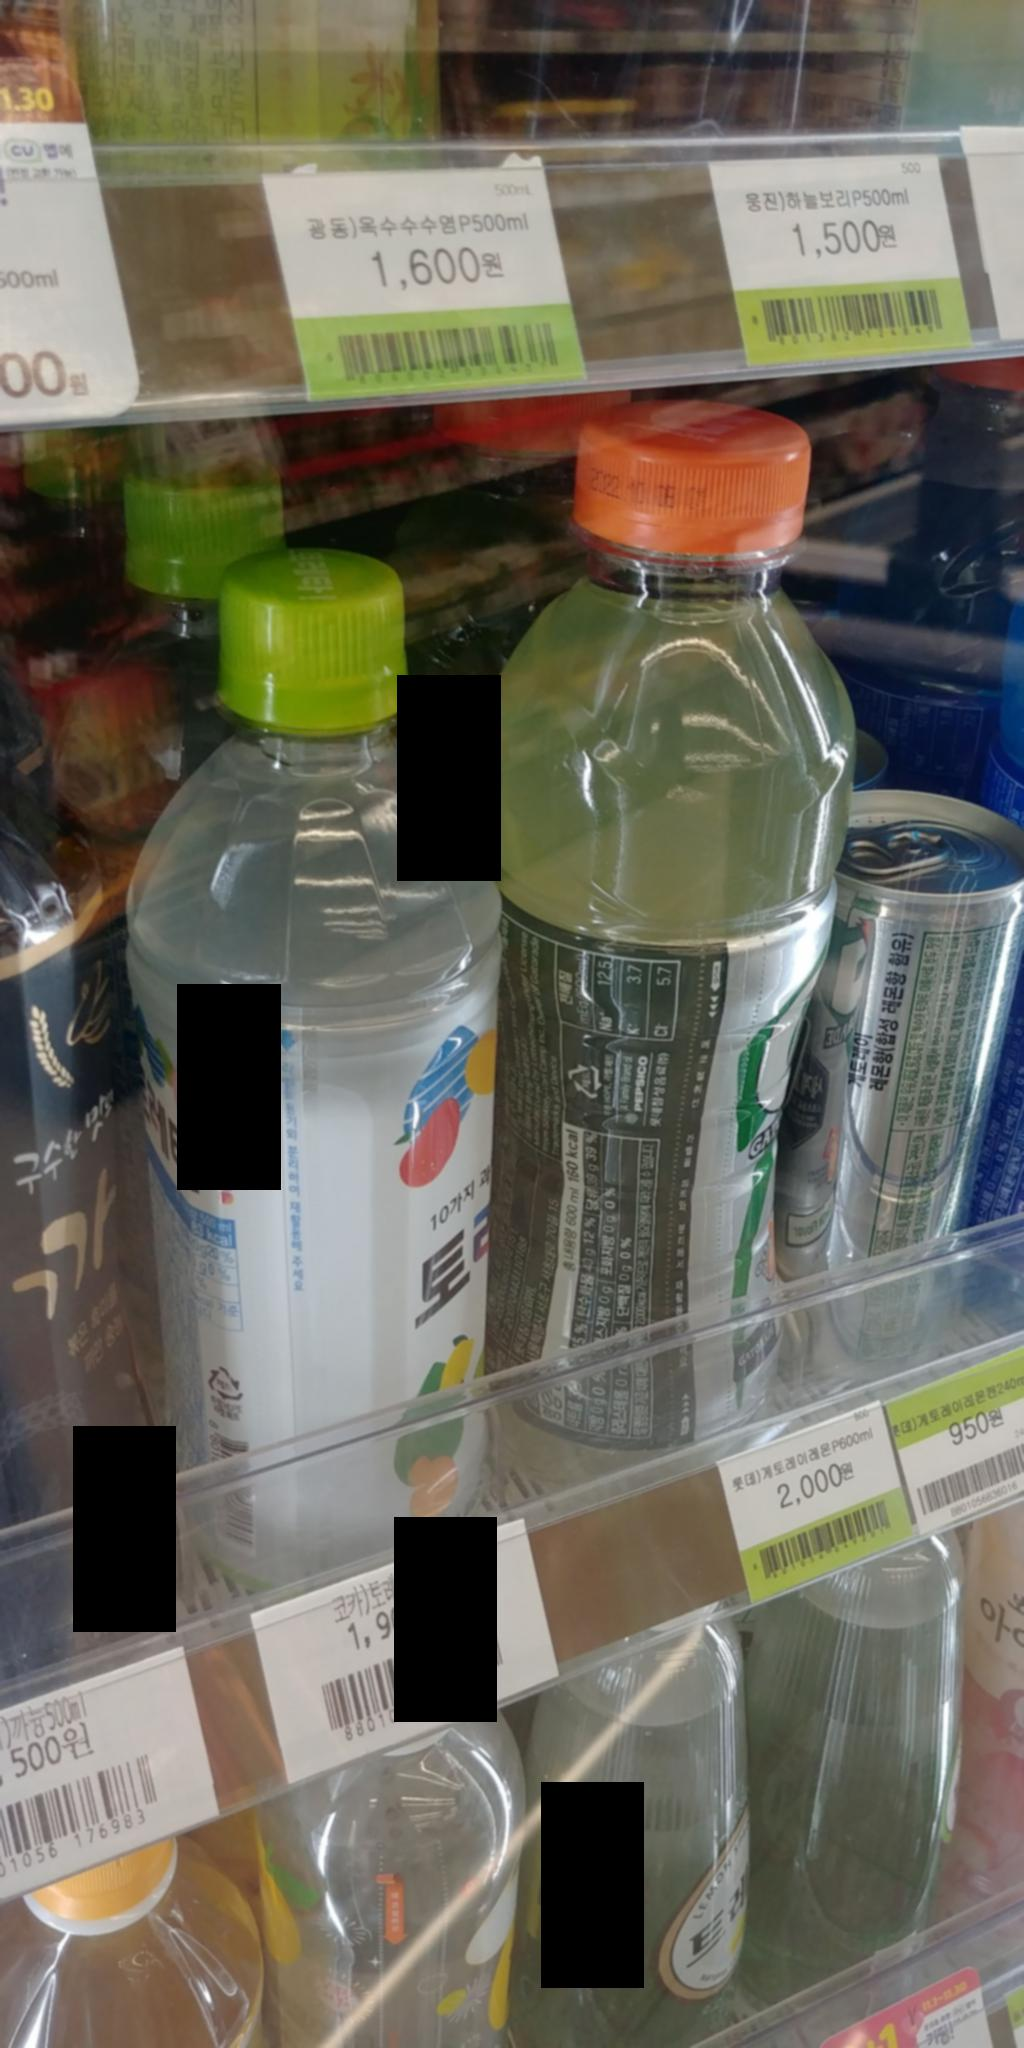gatorade_lemon: (481, 376, 852, 1456)
toreta: (104, 534, 509, 1567)
